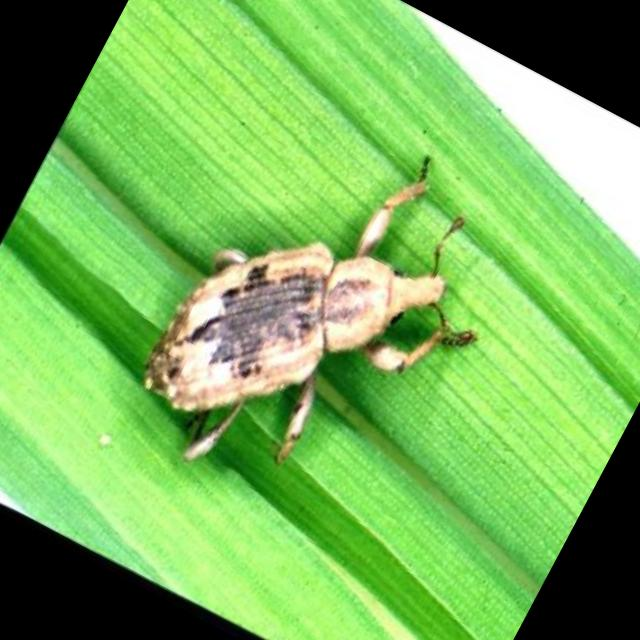rice-bug: (110, 130, 479, 538)
